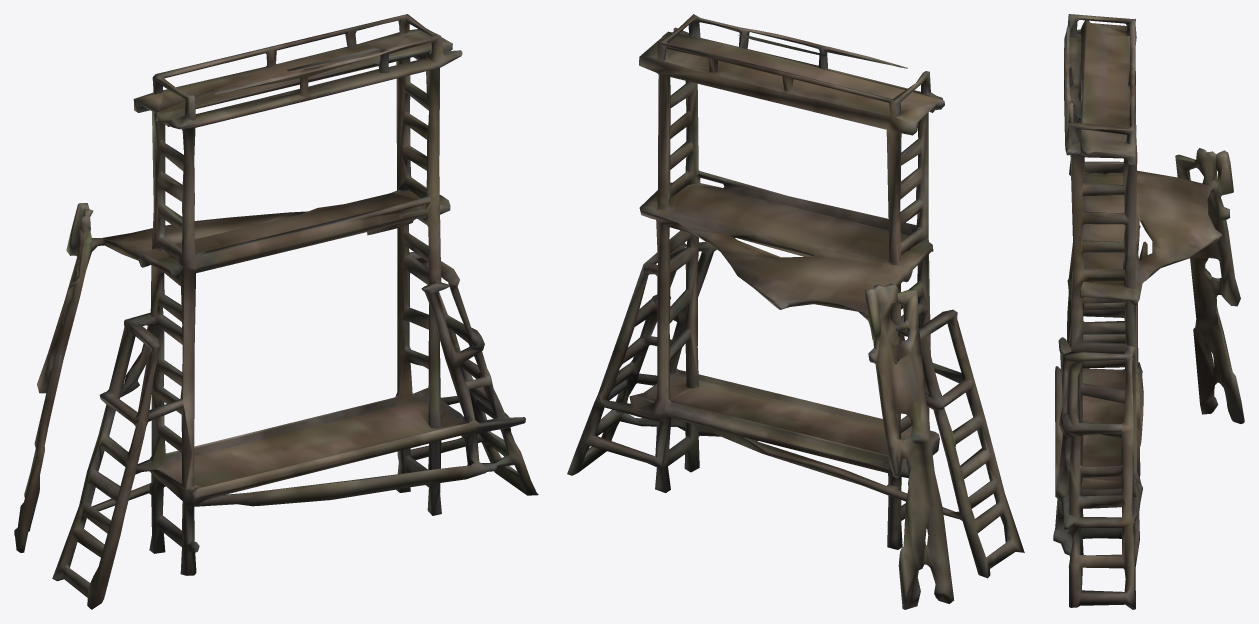
The model's file is plain-wood-scaffold-tower-v001.glb.
The picture shows the model from 3 angles, left to right: view 1: azimuth 30°, elevation 25°; view 2: azimuth 150°, elevation 25°; view 3: azimuth 270°, elevation 25°; orthographic projection. The views are drawn at different scales.
Visible parts, largest first — view 1: plain-wood-scaffold-tower; view 2: plain-wood-scaffold-tower; view 3: plain-wood-scaffold-tower.
Part boxes in pixels (box(x1,y1,x2,y2)): plain-wood-scaffold-tower: box(14, 14, 538, 609); plain-wood-scaffold-tower: box(567, 14, 1024, 609); plain-wood-scaffold-tower: box(1053, 14, 1244, 609).
Bounding box in the file's own units: 2.82 × 2.91 × 1.14.
1 material, 1 textured.
